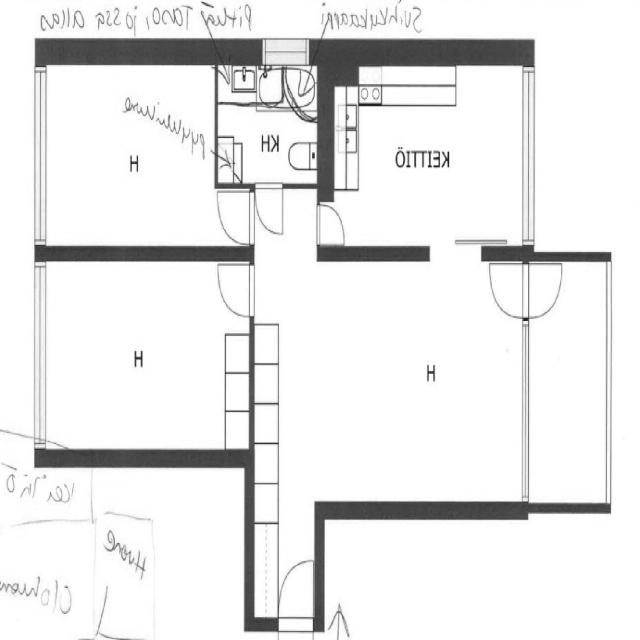door: (486, 258, 564, 319), (272, 549, 319, 631), (213, 256, 256, 322), (214, 186, 252, 247), (253, 179, 286, 239), (314, 200, 348, 248)
window: (27, 58, 55, 252), (27, 254, 53, 455), (517, 62, 541, 249), (519, 313, 532, 511), (258, 34, 314, 67)
zone: (252, 251, 525, 509), (38, 256, 254, 459), (329, 59, 529, 257), (39, 53, 224, 256), (211, 62, 321, 190), (94, 462, 156, 640)
